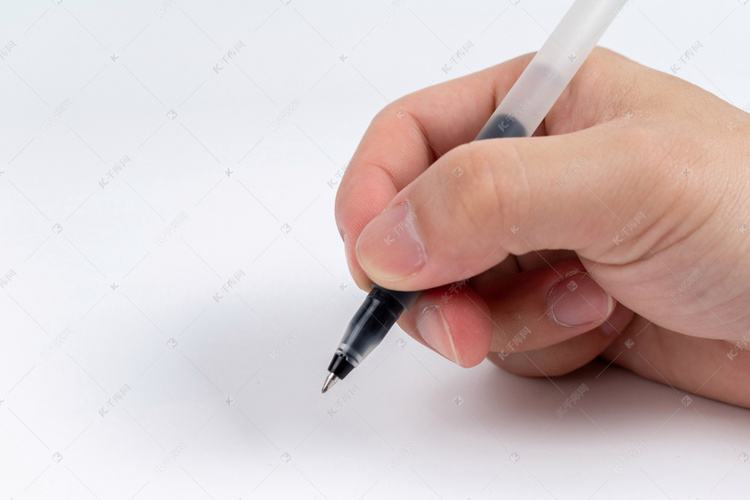no-phone: (304, 23, 748, 406)
